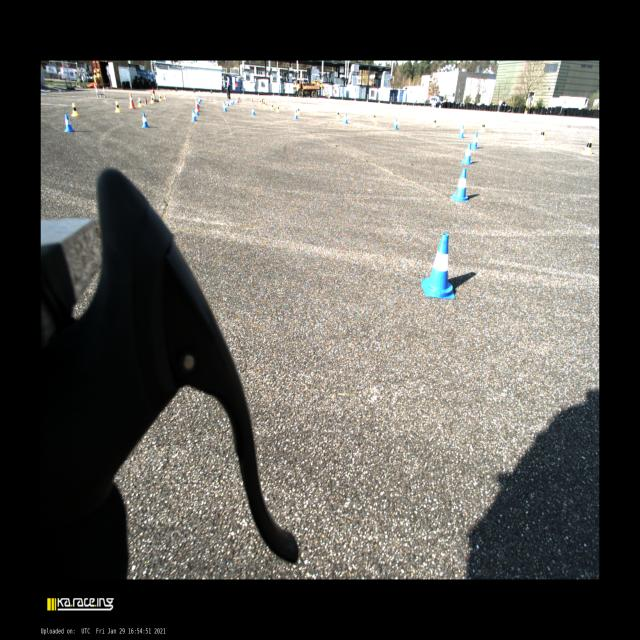blue_cone: (422, 233, 455, 298), (451, 168, 469, 201), (461, 143, 472, 164), (64, 114, 74, 132), (142, 113, 149, 128), (472, 133, 478, 149), (458, 124, 464, 138), (342, 112, 348, 124), (392, 118, 398, 129), (191, 110, 197, 121), (293, 110, 298, 120), (251, 106, 255, 115), (223, 104, 227, 112), (222, 101, 225, 109), (196, 106, 198, 115), (227, 100, 230, 106), (230, 99, 233, 105), (197, 98, 200, 104), (232, 98, 234, 104), (235, 99, 238, 103), (199, 96, 201, 102)
large_orange_cone: (129, 93, 135, 109), (196, 98, 200, 112)
orange_cone: (239, 97, 240, 101), (252, 98, 252, 102)
yellow_cone: (582, 136, 594, 156), (536, 127, 546, 144), (71, 103, 79, 116), (115, 101, 121, 112), (138, 98, 142, 107), (150, 95, 154, 104), (481, 123, 485, 132), (433, 119, 436, 127), (373, 114, 376, 122), (336, 111, 339, 119), (276, 106, 280, 112), (159, 94, 161, 101), (164, 94, 166, 100), (272, 104, 274, 110), (298, 109, 300, 114), (265, 103, 267, 108), (263, 101, 265, 106), (260, 100, 261, 104)
